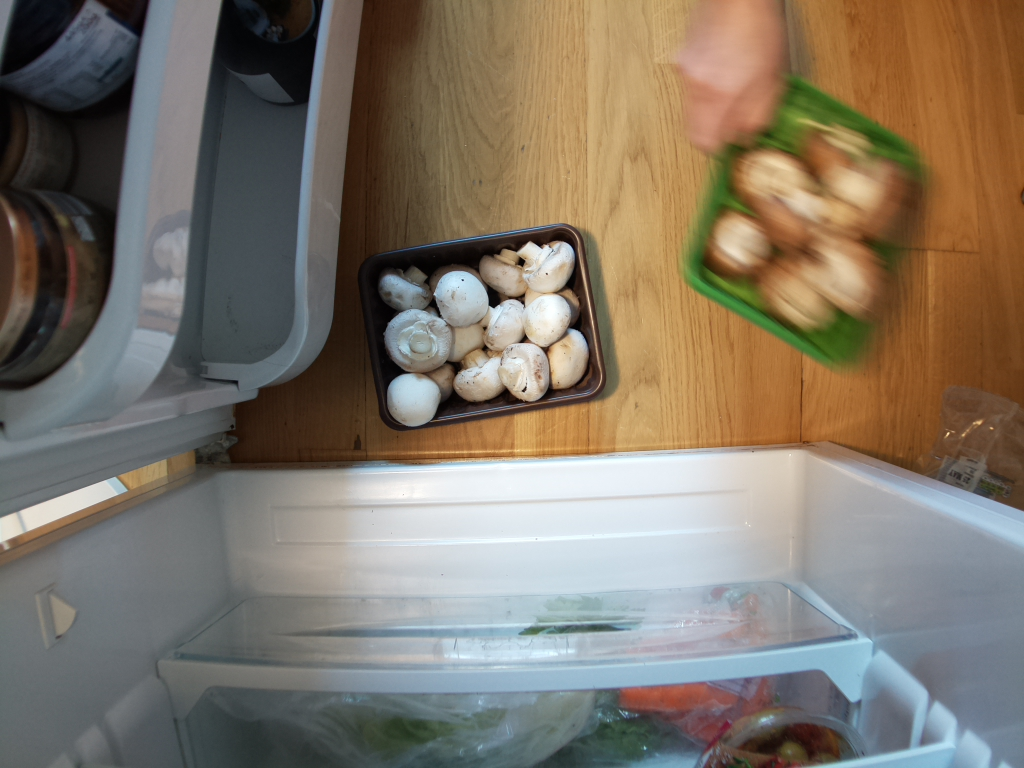mushrooms: (699, 86, 932, 374), (352, 223, 618, 437)
